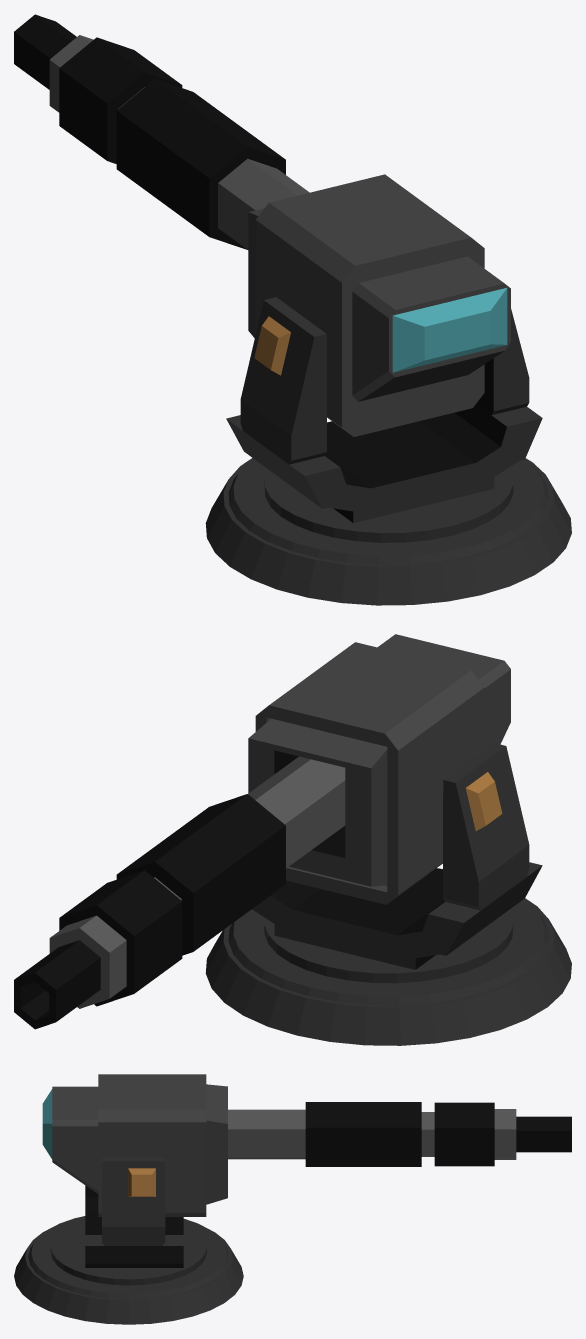
Rendered from Gun Head.fbx.
3 views of the same model, one above another, from view 1: azimuth 30°, elevation 25°; view 2: azimuth 150°, elevation 25°; view 3: azimuth 270°, elevation 25° (orthographic). The views are drawn at different scales.
Visible parts, largest first — view 1: 2.2. Gun Head (Vertical), 2.2. Gun Head (Horizontal); view 2: 2.2. Gun Head (Vertical), 2.2. Gun Head (Horizontal); view 3: 2.2. Gun Head (Vertical), 2.2. Gun Head (Horizontal).
Part boxes in pixels (x1,y1,x2,y2): 2.2. Gun Head (Vertical): (14, 14, 510, 436); 2.2. Gun Head (Horizontal): (205, 297, 571, 605); 2.2. Gun Head (Vertical): (14, 634, 510, 1029); 2.2. Gun Head (Horizontal): (205, 743, 571, 1045); 2.2. Gun Head (Vertical): (42, 1074, 571, 1216); 2.2. Gun Head (Horizontal): (14, 1157, 243, 1324).
Bounding box in the file's own units: 0.5352 × 1.3 × 0.518.
1 material, 1 textured.
